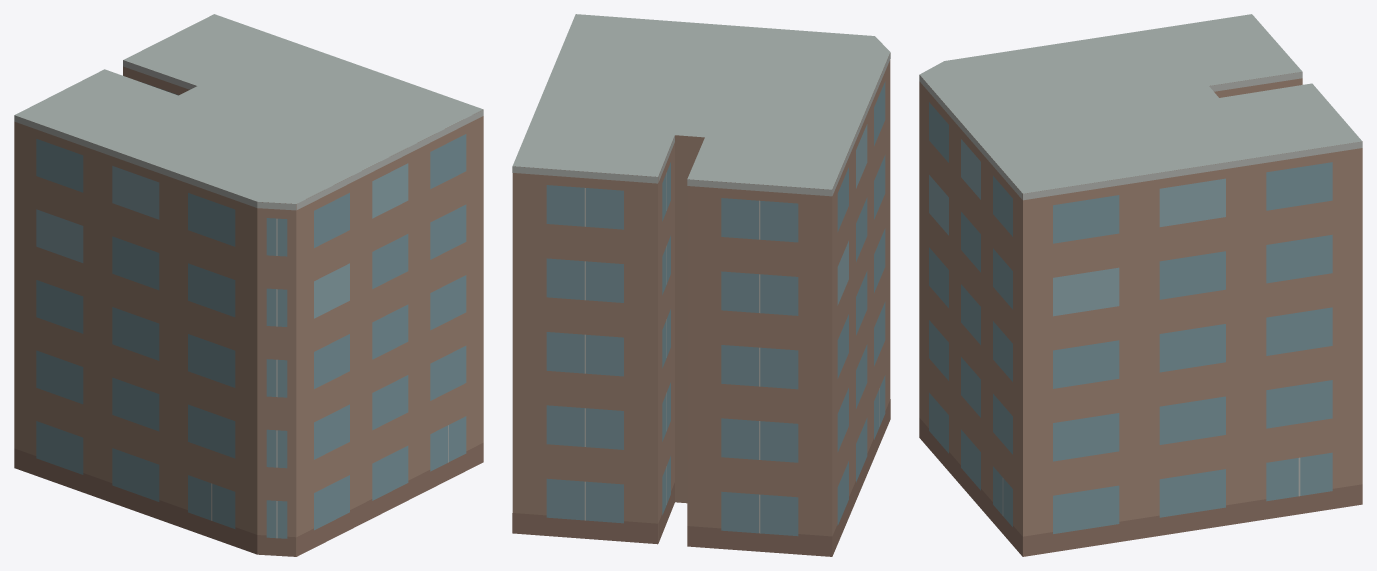
The model's file is survey-upis-32852990.glb.
3 views of the same model, side by side, from view 1: azimuth 30°, elevation 25°; view 2: azimuth 150°, elevation 25°; view 3: azimuth 270°, elevation 25° (orthographic). The views are drawn at different scales.
Visible parts, largest first — view 1: survey-upis-32852990.tmp; view 2: survey-upis-32852990.tmp; view 3: survey-upis-32852990.tmp.
Part boxes in pixels (box(x1,y1,x2,y2)): survey-upis-32852990.tmp: box(14, 14, 483, 556); survey-upis-32852990.tmp: box(512, 14, 890, 556); survey-upis-32852990.tmp: box(919, 14, 1362, 556).
Bounding box in the file's own units: 14.29 × 13.45 × 14.88.
